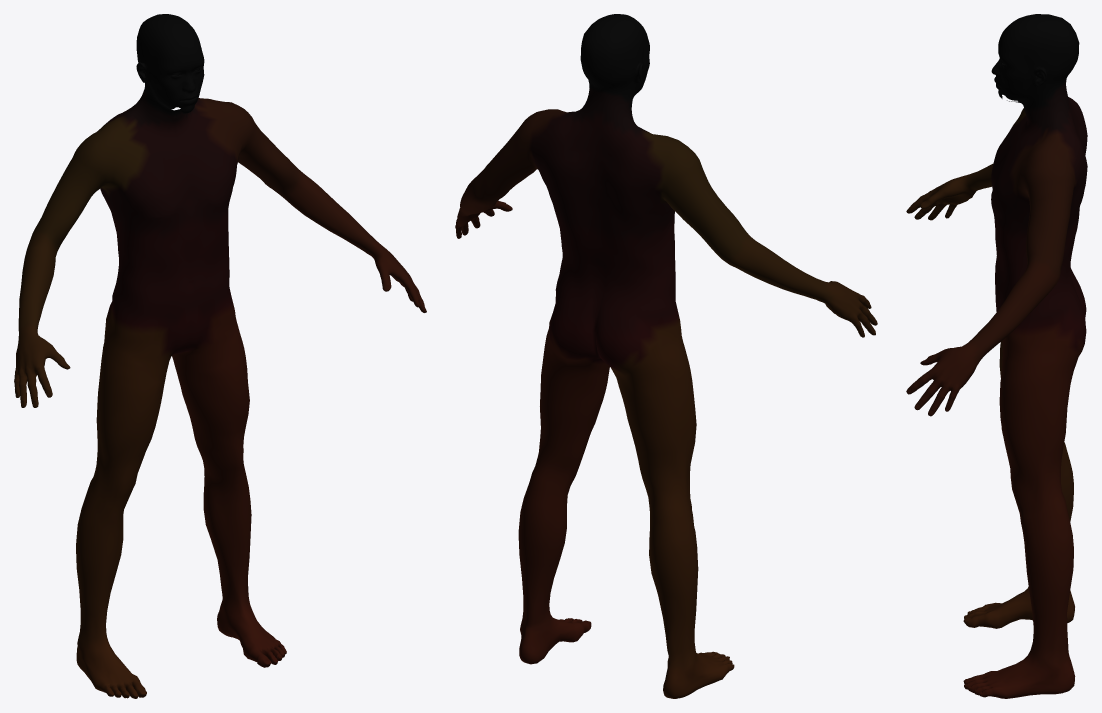
File: body-male.glb
The picture shows the model from 3 angles, left to right: view 1: azimuth 30°, elevation 25°; view 2: azimuth 150°, elevation 25°; view 3: azimuth 270°, elevation 25°; orthographic projection. The views are drawn at different scales.
Visible parts, largest first — view 1: body; view 2: body; view 3: body.
Boxes of the visible parts, x1,y1,x2,y2 form: body: (14, 14, 426, 698); body: (455, 14, 877, 698); body: (906, 14, 1087, 698).
Bounding box in the file's own units: 2.38 × 3.6 × 0.9231.
